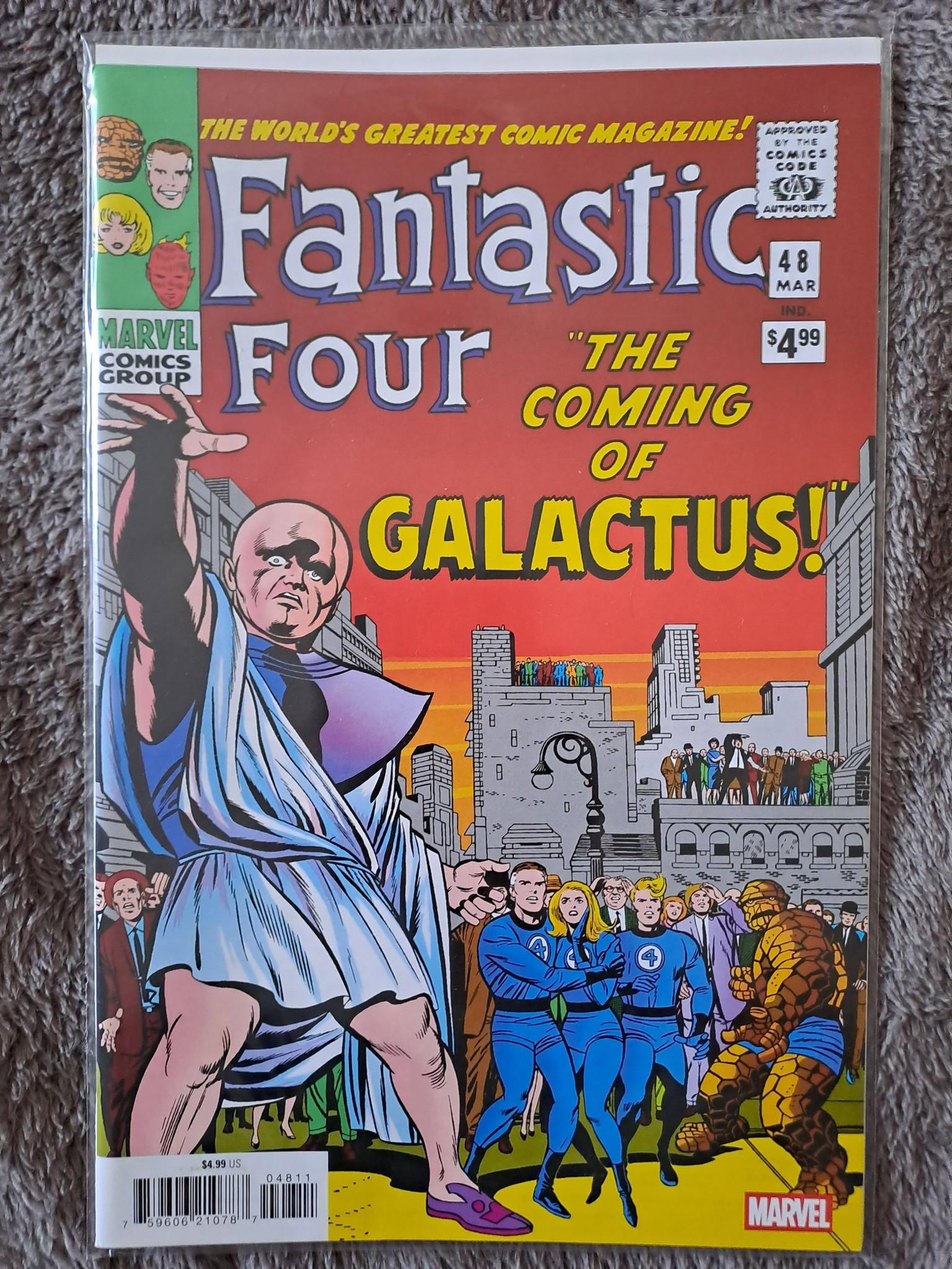comic: (82, 33, 883, 1251)
